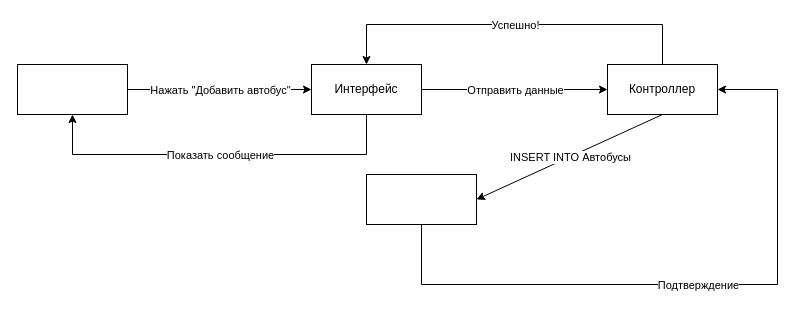
Image size: 803x310. Some labels were removed from this diagram. The shapes that lost their labels are listed below. From the top down, each one's box as (x1, y1, x2, y2) in pixels, then its label:
(16, 64, 128, 114): Пользователь
(366, 174, 476, 224): БД
